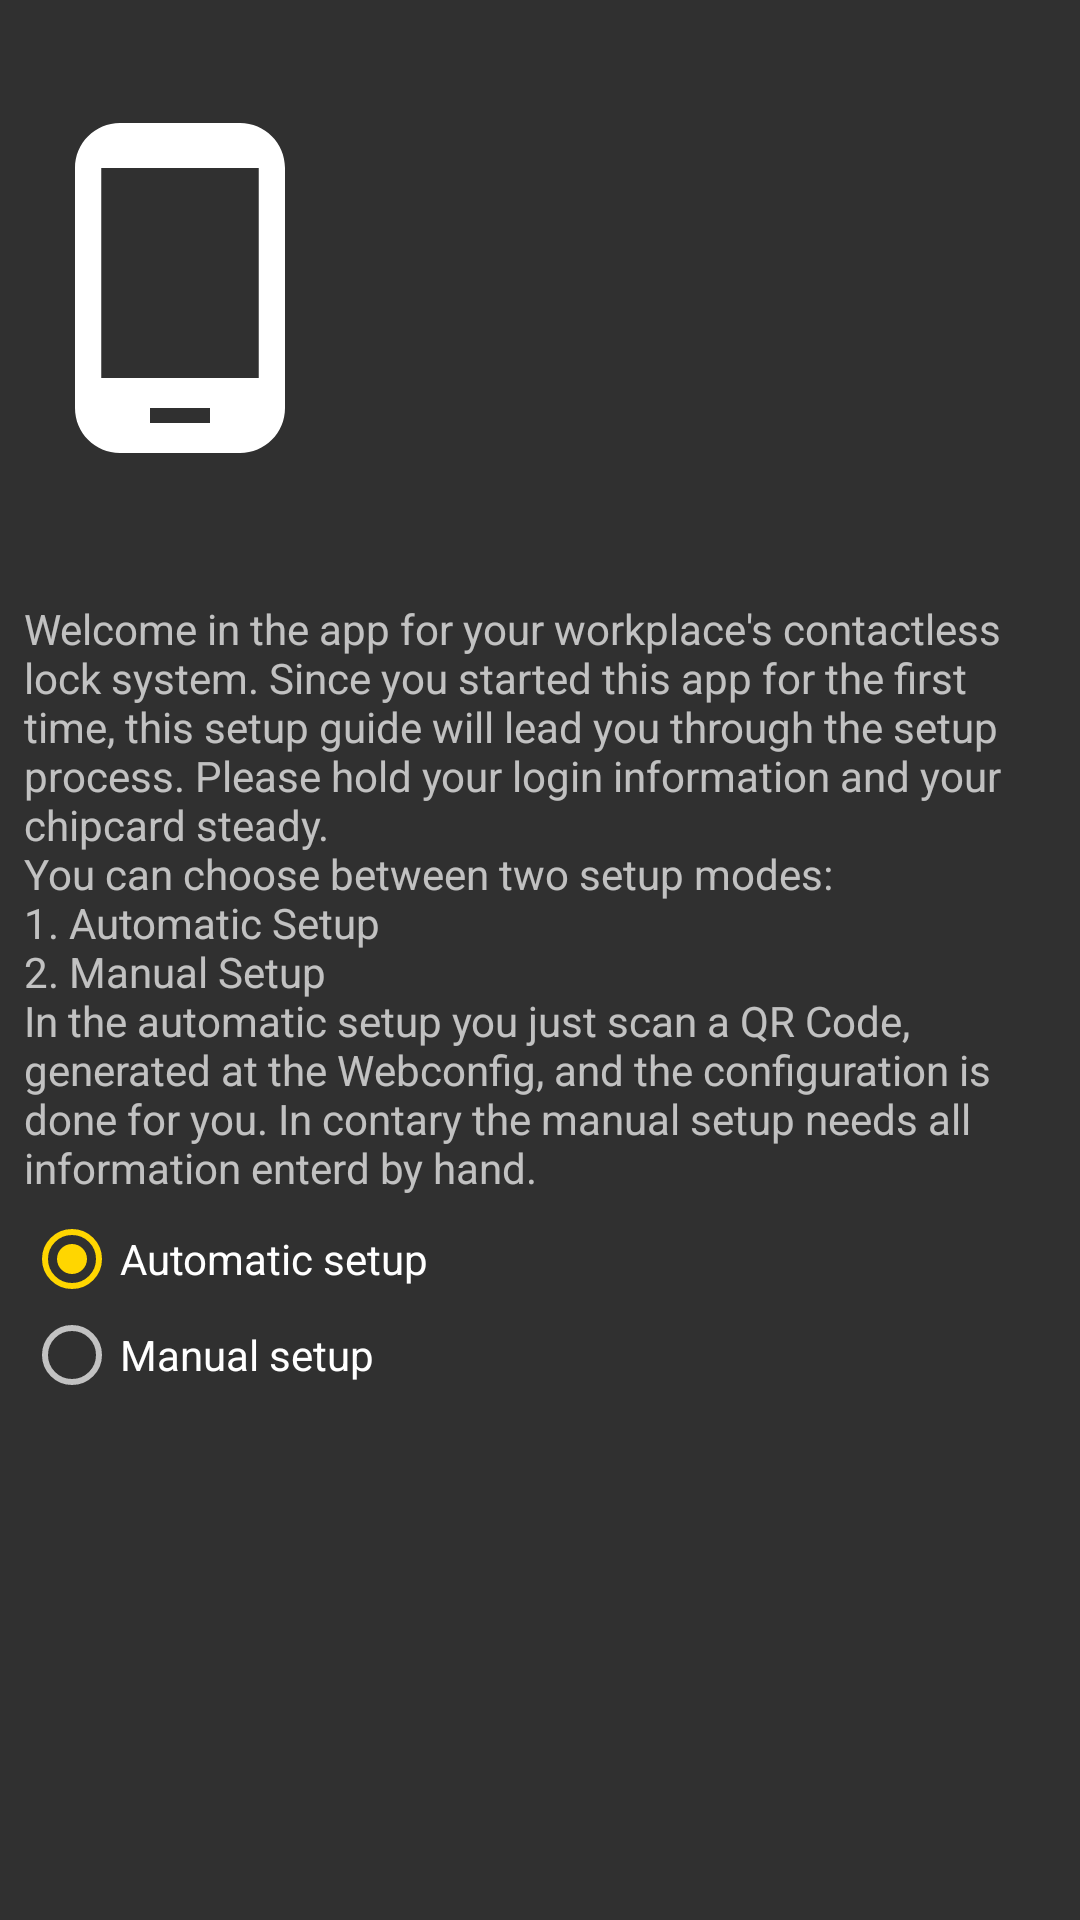

Point at icon controls on the screen. Image size 1080px×1920px, points as [x,y].
phone android: [180,288]
